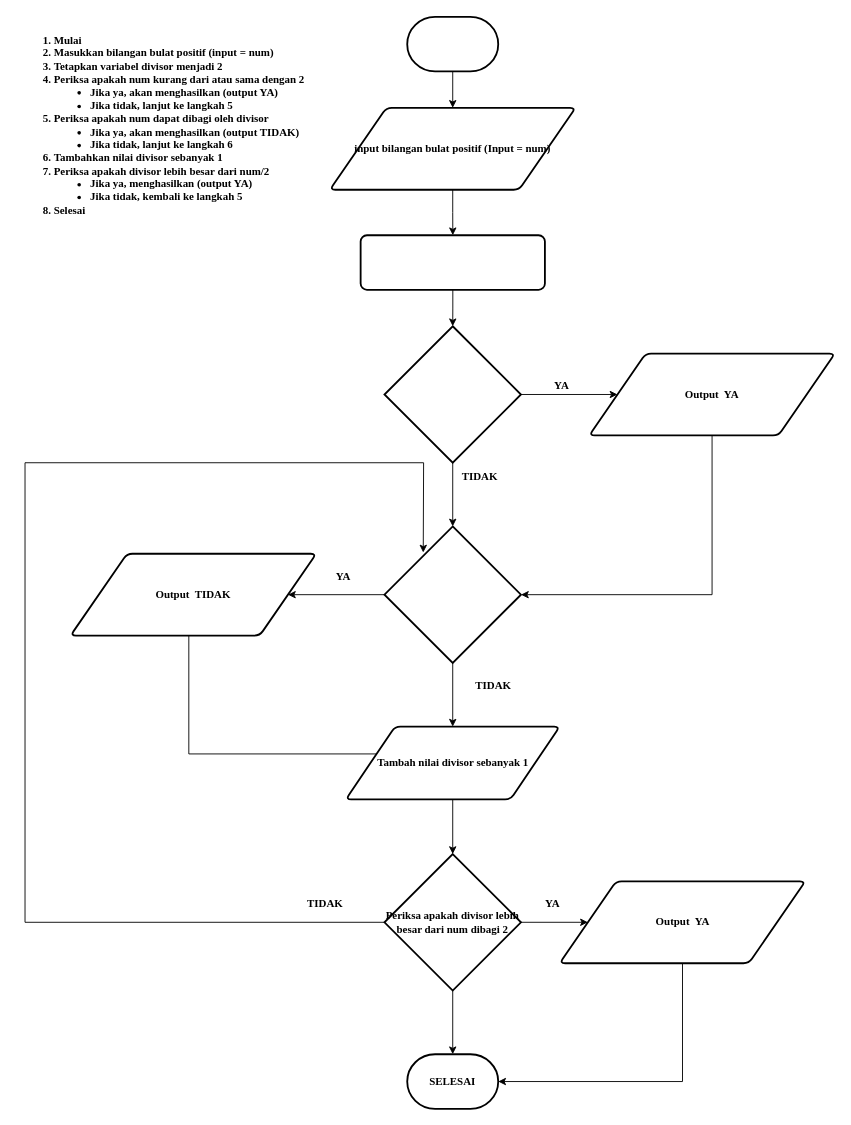
The diagram is 851 pixels wide and 1125 high, and some of its shapes have lost their labels. The box of each missing label's shape, as (x1, y1, x2, y2) in pixels:
Mulai: (406, 15, 499, 72)
Periksa apakah num dapat dibagi oleh divisor: (383, 525, 521, 663)
Periksa apakah num kurang dari atau sama dengan 2: (383, 325, 521, 463)
tetapkan variabel pembagi (divisor) menjadi 2: (359, 234, 545, 290)
